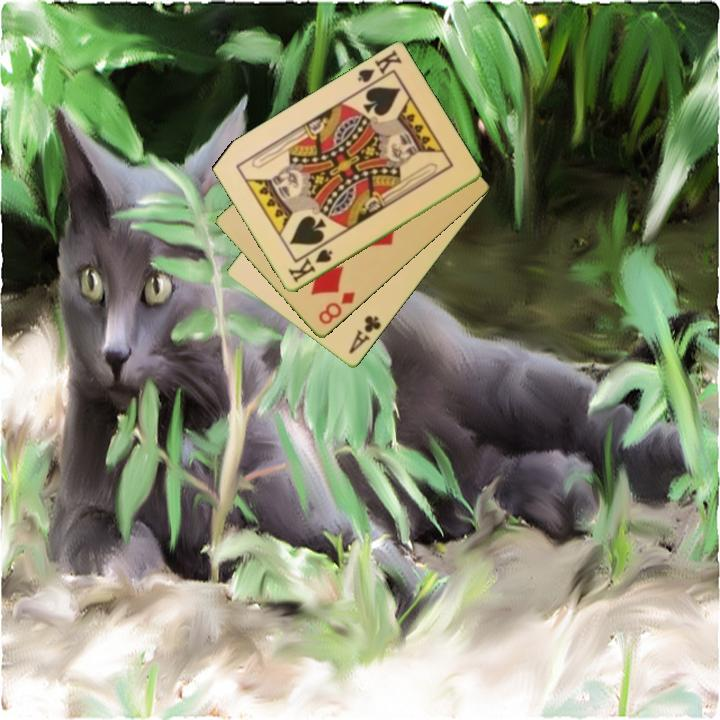8d: (315, 288, 358, 328)
Ac: (345, 312, 384, 357)
Ks: (353, 46, 405, 93), (284, 246, 335, 286)
